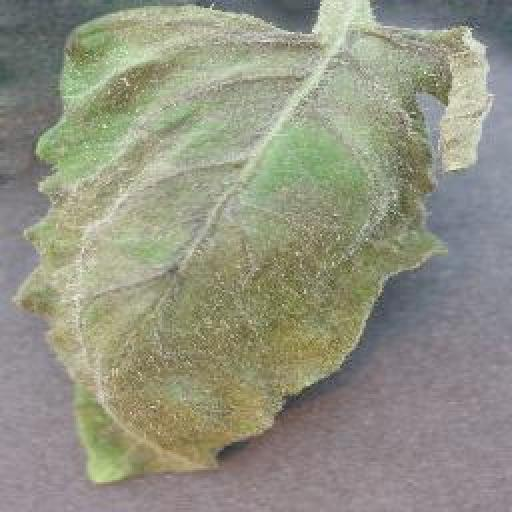disease_tomato: (6, 0, 498, 484)
